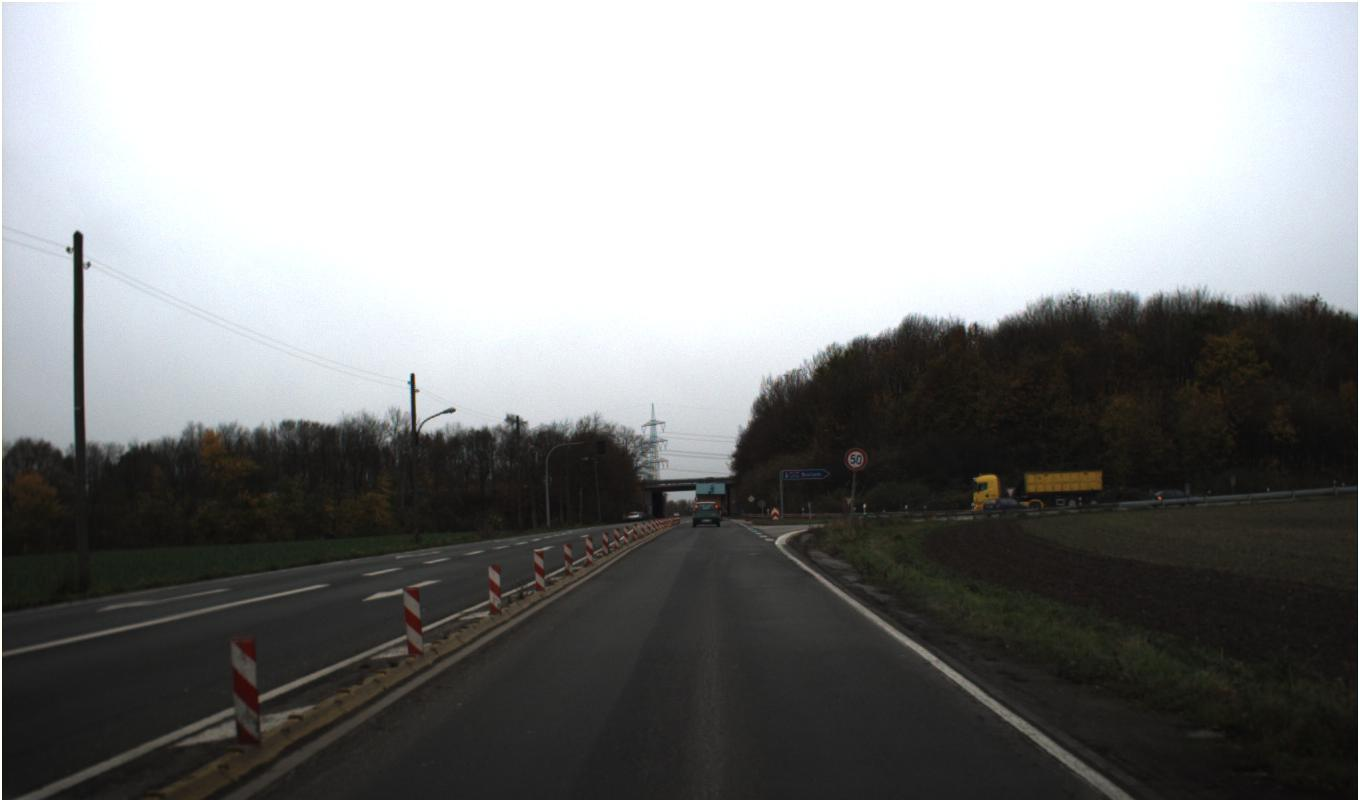prohibitory: (843, 447, 867, 470)
